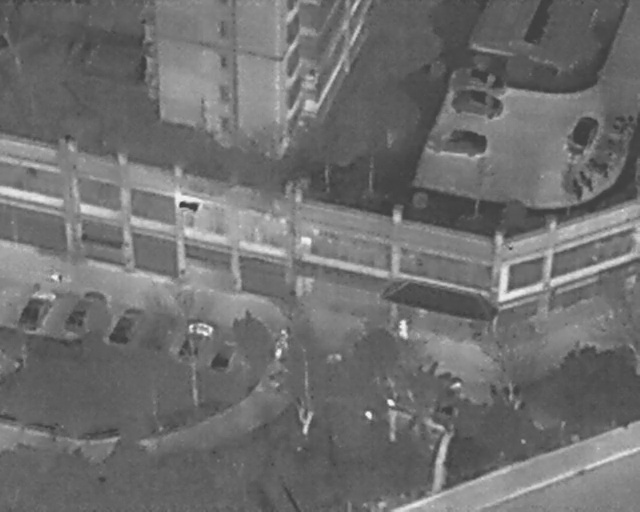Bicycle: (48, 271, 65, 285)
Car: (60, 280, 111, 344), (13, 282, 60, 340), (104, 299, 149, 355), (174, 316, 218, 370), (207, 334, 246, 379)
Person: (396, 319, 410, 340)
